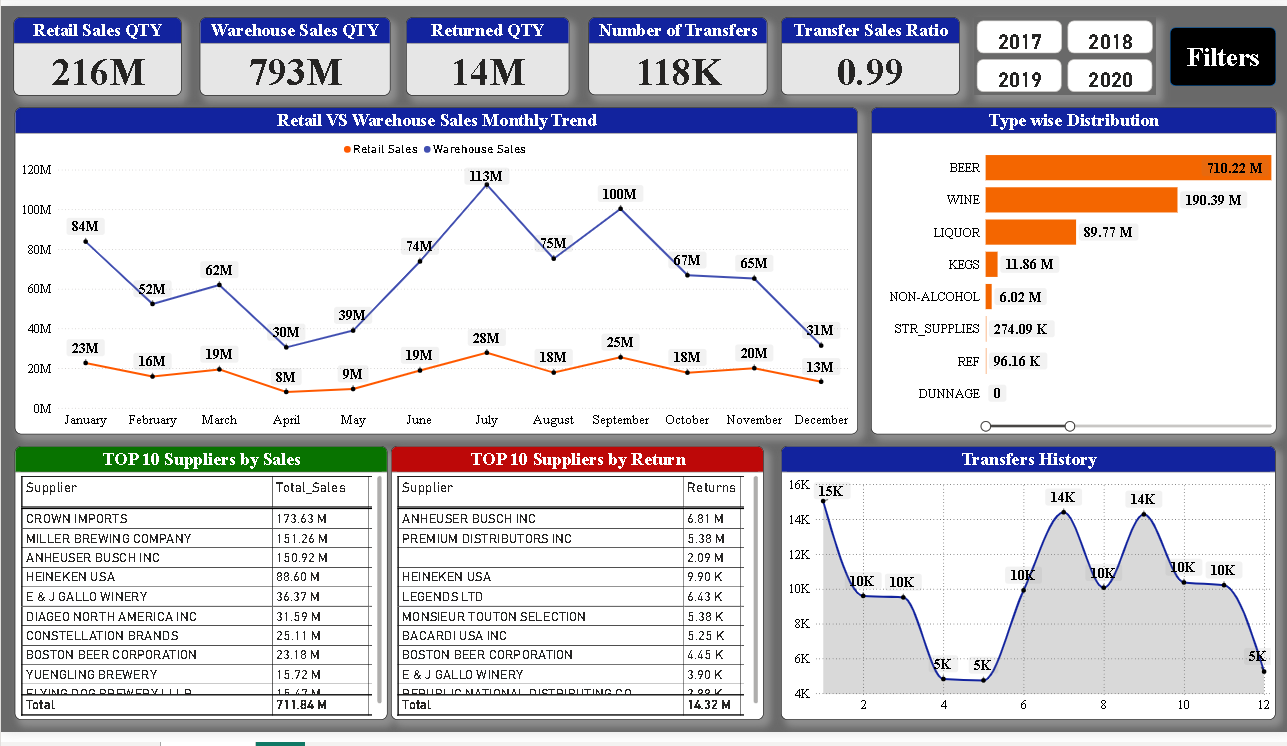

The page's visual inventory and layout, read from the dashboard file:
{"tool":"powerbi","page":{"name":"Page 1","canvas":[1920,1080],"ordinal":0},"visuals":[{"type":"shape","box":[1200.8,149.3,697.9,505.9],"z":0,"group":"g1"},{"type":"card","title":"Retail Sales QTY","fields":{"Values":["Measures-W&R.Total Retail Sales"]},"box":[19.4,17,250.2,116.6],"z":0},{"type":"advancedSlicerVisual","fields":{"Values":["W&R Sales Data.Month Name"]},"box":[1224.6,165.5,654.8,245.3],"z":1000,"group":"g1"},{"type":"card","title":"Returned QTY","fields":{"Values":["Measures-W&R.Total_Warehouse_Sales_Concerns"]},"box":[602.4,17,242.9,116.6],"z":1000},{"type":"card","title":"Warehouse Sales QTY","fields":{"Values":["Measures-W&R.Total_Warehouse_Sales_Positive"]},"box":[296.3,17,284.2,116.6],"z":2000},{"type":"slicer","title":"Item Type","fields":{"Values":["W&R Sales Data.ITEM TYPE"]},"box":[1224.6,430.8,328.8,125.5],"z":2000,"group":"g1"},{"type":"card","title":"Number of Transfers","fields":{"Values":["Measures-W&R.Quantity of transfers"]},"box":[875.9,17,266.5,116.2],"z":3000},{"type":"slicer","title":"Supplier","fields":{"Values":["W&R Sales Data.SUPPLIER"]},"box":[1584.6,430.8,294.8,125.5],"z":3000,"group":"g1"},{"type":"lineChart","title":"Retail VS Warehouse Sales Monthly Trend","fields":{"Y":["Measures-W&R.Total Retail Sales","Measures-W&R.Total_Warehouse_Sales_Positive"],"Category":["W&R Sales Data.Month Name"]},"box":[19.8,150.2,1255.8,487.6],"z":4000},{"type":"actionButton","title":"Clear","box":[1225.2,569.4,201.1,73.6],"z":4000,"group":"g1"},{"type":"actionButton","title":"Close","box":[1444.6,569.4,106.7,73.6],"z":5000,"group":"g1"},{"type":"tableEx","title":"TOP 10 Suppliers by Sales","fields":{"Values":["W&R Sales Data.SUPPLIER","Measures-W&R.Total Sales"]},"box":[19.8,654.8,555.6,408.2],"z":5000},{"type":"tableEx","title":"TOP 10 Suppliers by Return","fields":{"Values":["W&R Sales Data.SUPPLIER","Measures-W&R.Formatted Returns"]},"box":[581.1,654.8,555.6,408.2],"z":6000},{"type":"barChart","title":"Type wise Distribution","fields":{"Category":["W&R Sales Data.ITEM TYPE"],"Y":["Measures-W&R.TS"]},"box":[1295.4,150.2,603.8,487.6],"z":7000},{"type":"card","title":"Transfer Sales Ratio","fields":{"Values":["Measures-W&R.Transfer_Sales_Ratio"]},"box":[1162.2,17,266.5,116.2],"z":8000},{"type":"areaChart","title":"Transfers History","fields":{"Category":["W&R Sales Data.MONTH"],"Y":["Measures-W&R.Quantity of transfers"]},"box":[1162.2,654.8,737,408.2],"z":9000},{"type":"shape","box":[1740.5,31.2,158.7,87.9],"z":10000},{"type":"advancedSlicerVisual","fields":{"Values":["W&R Sales Data.YEAR"]},"box":[1448.5,17,272.1,116.2],"z":11000},{"type":"group","id":"g1","title":"FP","box":[1200.8,149.3,697.9,505.9],"z":12000}]}

Visuals, with their boxes in screenshot pixels (x1, y1, x2, y2), scaled from the page's 1920x1080 canvas onto the 1287x746 screenshot:
shape: <bbox>805, 103, 1273, 453</bbox>
"Retail Sales QTY" card: <bbox>13, 12, 181, 92</bbox>
advancedSlicerVisual - W&R Sales Data.Month Name: <bbox>821, 114, 1260, 284</bbox>
"Returned QTY" card: <bbox>404, 12, 567, 92</bbox>
"Warehouse Sales QTY" card: <bbox>199, 12, 389, 92</bbox>
"Item Type" slicer: <bbox>821, 298, 1041, 384</bbox>
"Number of Transfers" card: <bbox>587, 12, 766, 92</bbox>
"Supplier" slicer: <bbox>1062, 298, 1260, 384</bbox>
"Retail VS Warehouse Sales Monthly Trend" lineChart: <bbox>13, 104, 855, 441</bbox>
"Clear" actionButton: <bbox>821, 393, 956, 444</bbox>
"Close" actionButton: <bbox>968, 393, 1040, 444</bbox>
"TOP 10 Suppliers by Sales" tableEx: <bbox>13, 452, 386, 734</bbox>
"TOP 10 Suppliers by Return" tableEx: <bbox>390, 452, 762, 734</bbox>
"Type wise Distribution" barChart: <bbox>868, 104, 1273, 441</bbox>
"Transfer Sales Ratio" card: <bbox>779, 12, 958, 92</bbox>
"Transfers History" areaChart: <bbox>779, 452, 1273, 734</bbox>
shape: <bbox>1167, 22, 1273, 82</bbox>
advancedSlicerVisual - W&R Sales Data.YEAR: <bbox>971, 12, 1153, 92</bbox>
"FP" group: <bbox>805, 103, 1273, 453</bbox>
